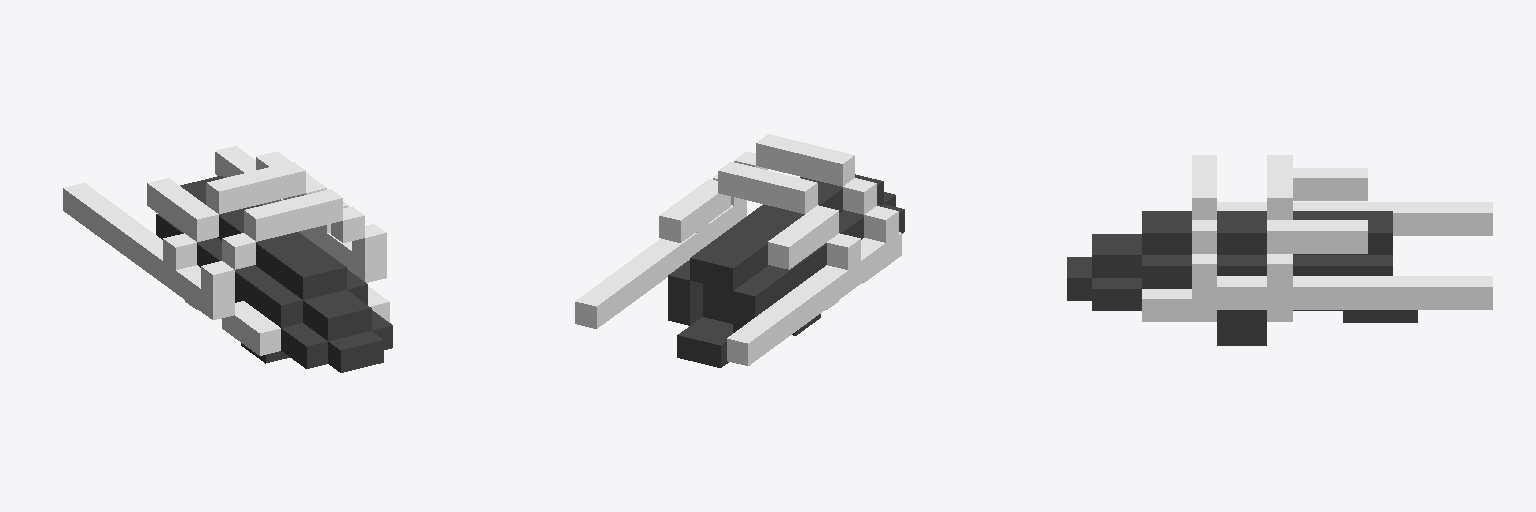
The picture shows the model from 3 angles: view 1: azimuth 30°, elevation 25°; view 2: azimuth 150°, elevation 25°; view 3: azimuth 270°, elevation 25°; orthographic projection.
Bounding box in the file's own units: 8 × 7 × 17.
1 materials, 1 textured.